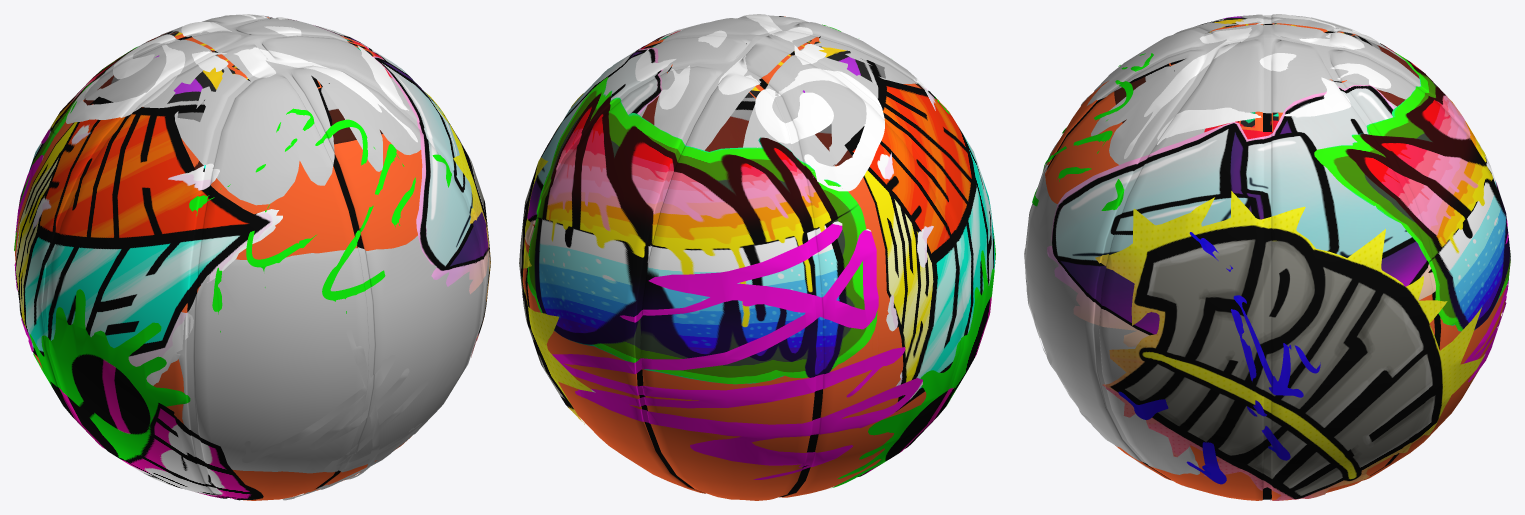
File: G-BALL.FBX
The picture shows the model from 3 angles, left to right: view 1: azimuth 30°, elevation 25°; view 2: azimuth 150°, elevation 25°; view 3: azimuth 270°, elevation 25°; orthographic projection.
Parts seen in each view (by area): view 1: WAK, R&H, 8AL, EASY, IMPORT, GIB001, GPS, PSZ, POG001, KEB, TRUTH, UMI (+1 smaller); view 2: UMI, IMPORT, R&H, 4CE, 8AL, GPS, EASY, GIB001, KEB, TRUTH; view 3: TRUTH, GIB001, UMI, 8AL, WAK, IMPORT, GPS, BXC, KEB, POG001, 4CE.
Part boxes in pixels (x1,y1,x2,y2): WAK: [176, 235, 488, 473]; R&H: [15, 96, 282, 385]; 8AL: [83, 15, 420, 205]; EASY: [29, 289, 263, 500]; IMPORT: [15, 17, 422, 500]; GIB001: [265, 16, 490, 294]; GPS: [66, 14, 417, 142]; PSZ: [242, 329, 428, 500]; POG001: [189, 108, 451, 332]; KEB: [84, 31, 391, 169]; TRUTH: [425, 92, 490, 357]; UMI: [14, 46, 138, 250]; UMI: [527, 77, 877, 384]; IMPORT: [522, 16, 926, 500]; R&H: [844, 78, 995, 411]; 4CE: [552, 221, 922, 479]; 8AL: [639, 15, 917, 166]; GPS: [635, 14, 884, 191]; EASY: [832, 228, 995, 487]; GIB001: [525, 33, 669, 245]; KEB: [641, 16, 923, 165]; TRUTH: [519, 93, 595, 424]; TRUTH: [1095, 191, 1485, 500]; GIB001: [1047, 84, 1435, 346]; UMI: [1314, 43, 1510, 331]; 8AL: [1087, 15, 1420, 164]; WAK: [1024, 141, 1199, 474]; IMPORT: [1045, 23, 1506, 500]; GPS: [1124, 14, 1391, 158]; BXC: [1118, 232, 1320, 484]; KEB: [1114, 15, 1419, 139]; POG001: [1032, 53, 1153, 210]; 4CE: [1463, 182, 1508, 382].
Size of the model in its own units: 115 by 116 by 115.
